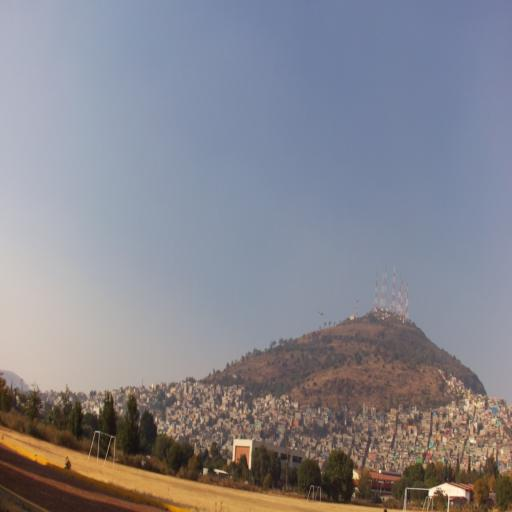drones: (317, 311, 325, 317)
